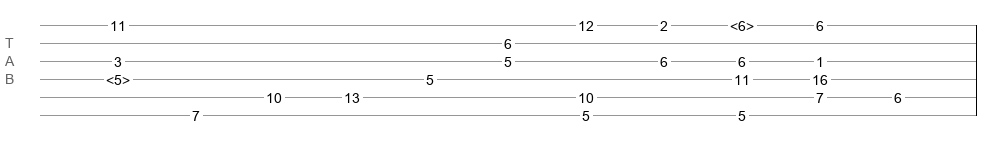1: (816, 54, 824, 64)
10: (266, 90, 282, 100), (578, 90, 594, 100)
11: (110, 18, 126, 28), (734, 72, 750, 82)
12: (578, 18, 594, 28)
13: (344, 90, 360, 100)
16: (812, 72, 828, 82)
2: (660, 18, 668, 28)
3: (114, 54, 122, 64)
5: (426, 72, 434, 82), (504, 54, 512, 64), (582, 108, 590, 118), (738, 108, 746, 118)
6: (504, 36, 512, 46), (660, 54, 668, 64), (738, 54, 746, 64), (816, 18, 824, 28), (894, 90, 902, 100)
7: (192, 108, 200, 118), (816, 90, 824, 100)
harmonic: (106, 72, 130, 82), (730, 18, 754, 28)
